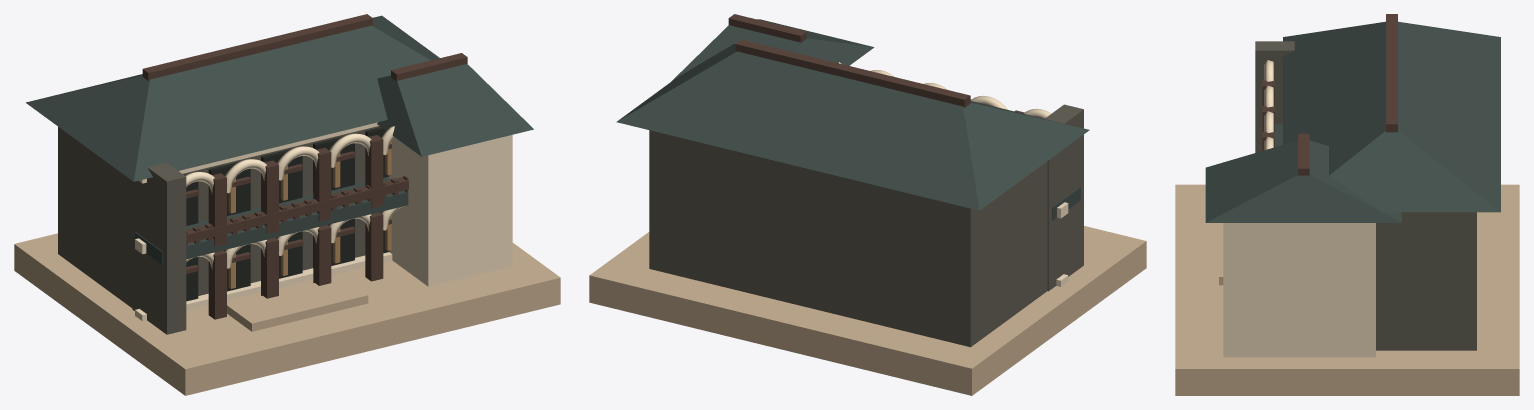
Rendered from zunyi-hall.glb.
The picture shows the model from 3 angles, left to right: view 1: azimuth 30°, elevation 25°; view 2: azimuth 150°, elevation 25°; view 3: azimuth 270°, elevation 25°; orthographic projection.
Visible parts, largest first — view 1: Slate, Sandstone, Dark grey brick, Lime plaster, Dark timber, Recesses, Weathered timber; view 2: Dark grey brick, Slate, Sandstone, Dark timber, Lime plaster; view 3: Slate, Sandstone, Lime plaster, Dark grey brick, Dark timber.
Part boxes in pixels (x1,y1,x2,y2): Slate: [25, 15, 533, 264]; Sandstone: [14, 233, 560, 395]; Dark grey brick: [58, 126, 380, 334]; Lime plaster: [135, 122, 512, 321]; Dark timber: [142, 14, 467, 319]; Recesses: [184, 127, 389, 301]; Weathered timber: [228, 141, 391, 288]; Dark grey brick: [649, 104, 1083, 347]; Slate: [616, 19, 1089, 220]; Sandstone: [589, 226, 1146, 395]; Dark timber: [728, 14, 1024, 113]; Lime plaster: [839, 62, 1068, 286]; Slate: [1205, 21, 1500, 222]; Sandstone: [1175, 184, 1519, 395]; Lime plaster: [1223, 60, 1375, 357]; Dark grey brick: [1255, 41, 1476, 350]; Dark timber: [1262, 14, 1397, 175].
Size of the model in its own units: 1 by 0.5845 by 0.79.
